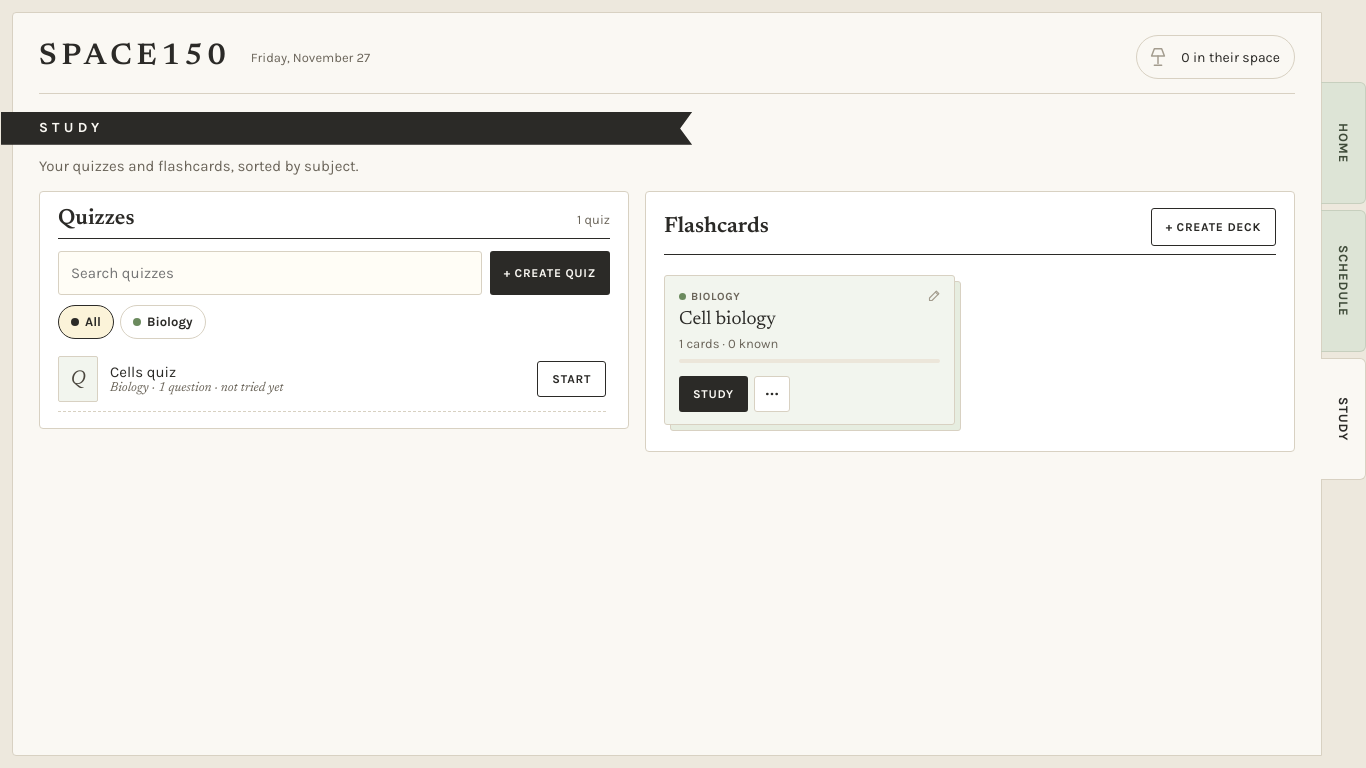
Test: a quiz taken offline sends its score once back online
This screenshot has width=1366, height=768.
Later steps or results of the test are not shown.
Step 1. Click the button "START" → (572, 379), box 537,361 -> 606,397
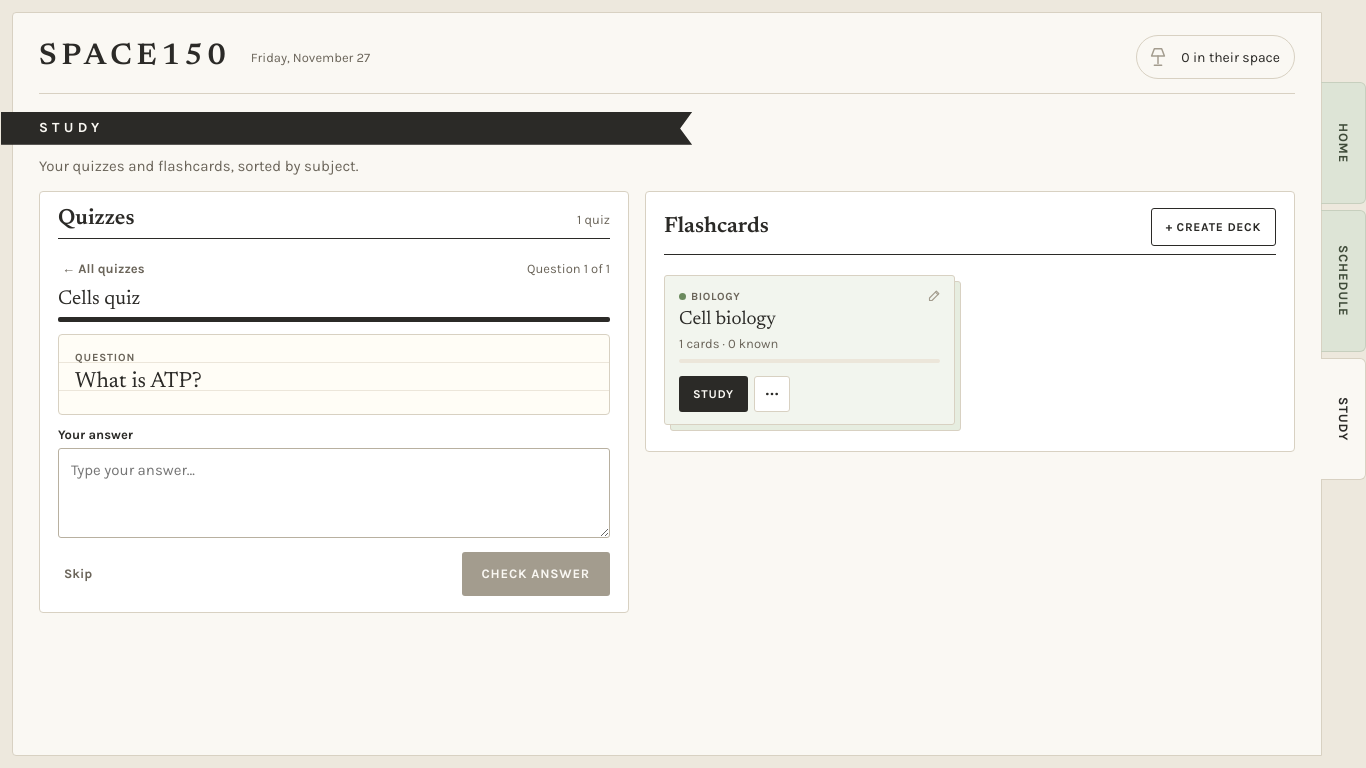
Expected: the text "What is ATP?" is shown, 75,371 -> 202,393
